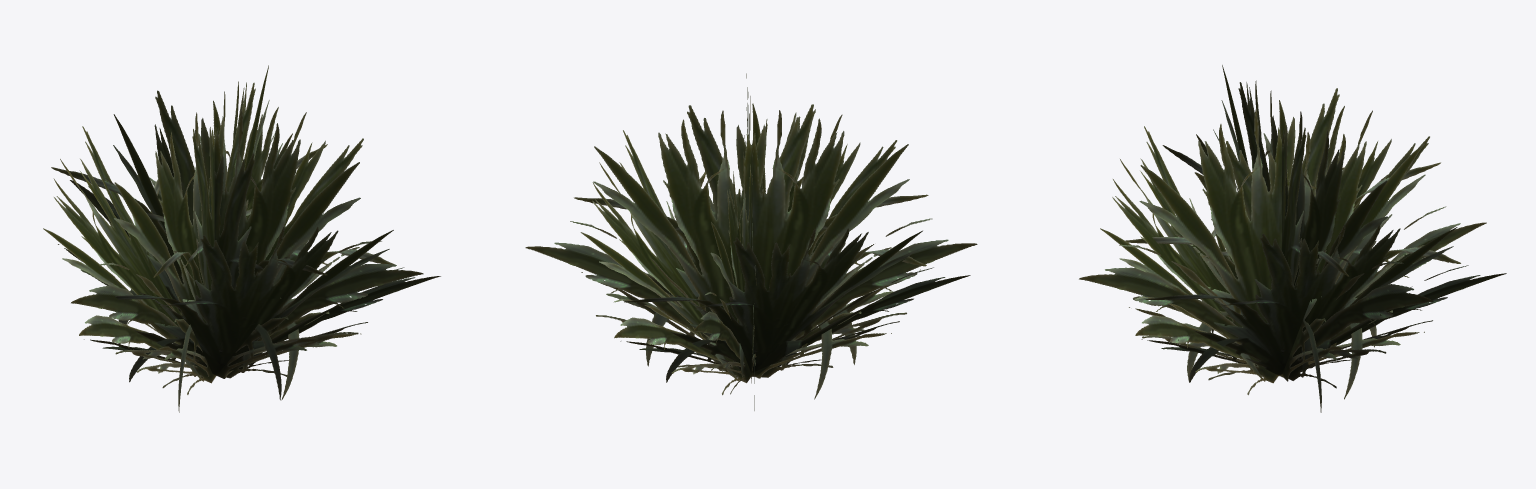
Rendered from NZFlax.dae.
3 views of the same model, side by side, from view 1: azimuth 30°, elevation 25°; view 2: azimuth 150°, elevation 25°; view 3: azimuth 270°, elevation 25° (orthographic).
Visible parts, largest first — view 1: group_1, group_6, group_4, group_3, group_0, group_2, group_5; view 2: group_4, group_5, group_3, group_2, group_1, group_0, group_6; view 3: group_6, group_2, group_5, group_1, group_0, group_4, group_3.
Boxes of the visible parts, left/top/right/bottom form: group_1: left=84, top=226, right=440, bottom=382; group_6: left=51, top=90, right=423, bottom=378; group_4: left=71, top=82, right=327, bottom=388; group_3: left=43, top=126, right=216, bottom=394; group_0: left=70, top=114, right=327, bottom=400; group_2: left=137, top=100, right=394, bottom=400; group_5: left=153, top=65, right=292, bottom=412; group_4: left=574, top=105, right=977, bottom=377; group_5: left=525, top=104, right=928, bottom=377; group_3: left=620, top=228, right=970, bottom=382; group_2: left=580, top=130, right=746, bottom=395; group_1: left=701, top=103, right=926, bottom=399; group_0: left=693, top=119, right=767, bottom=394; group_6: left=744, top=73, right=756, bottom=410; group_6: left=1079, top=88, right=1440, bottom=380; group_2: left=1141, top=224, right=1506, bottom=382; group_5: left=1162, top=82, right=1433, bottom=388; group_1: left=1100, top=126, right=1278, bottom=395; group_0: left=1125, top=132, right=1486, bottom=381; group_4: left=1196, top=65, right=1349, bottom=412; group_3: left=1194, top=100, right=1460, bottom=399.
Size of the model in its own units: 121 by 118 by 75.87.
1 material, 1 textured.
